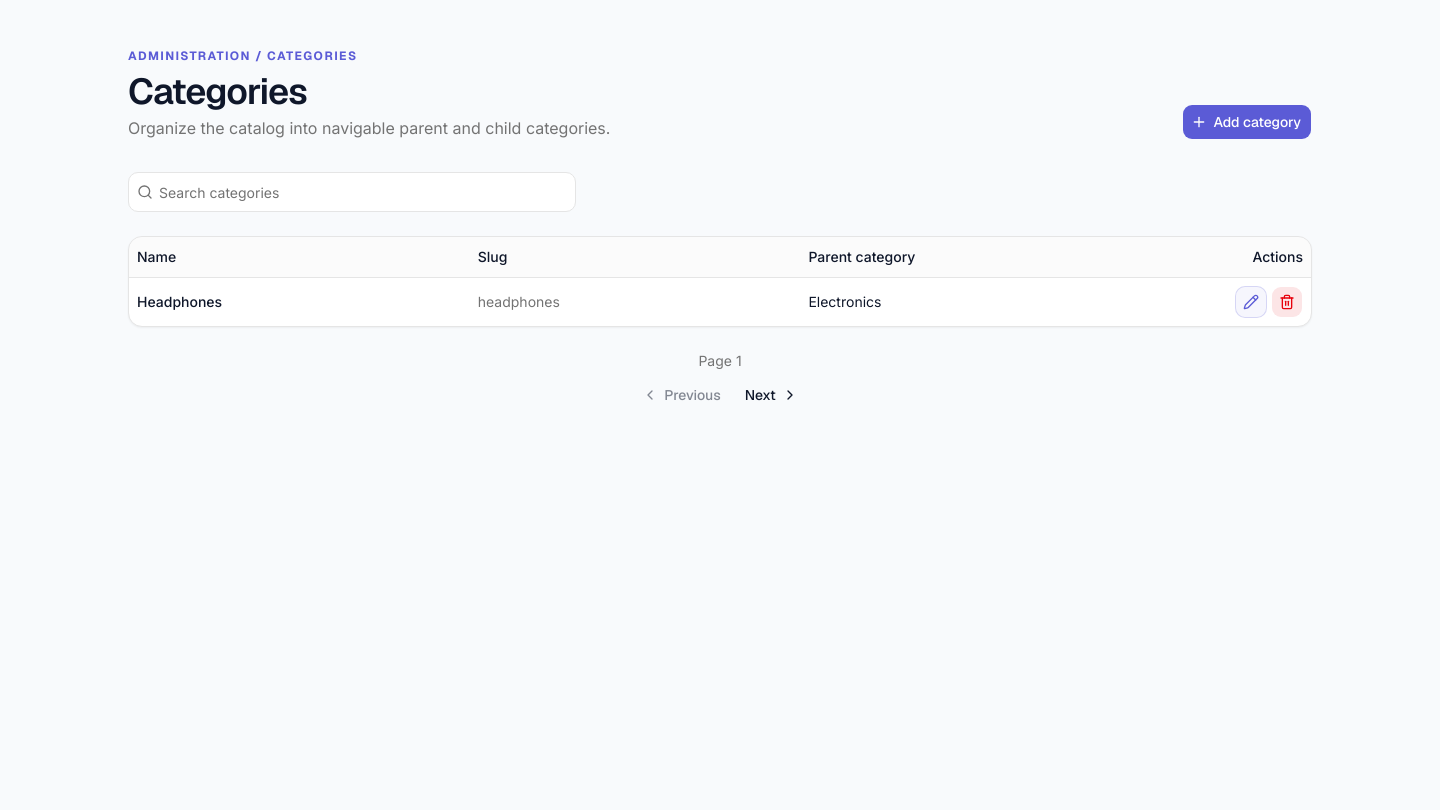
Test: CategoriesCrud › shows dependency conflicts without leaving the page
Click the button named "Delete Headphones": (1287, 302) [1271,286,1303,318]
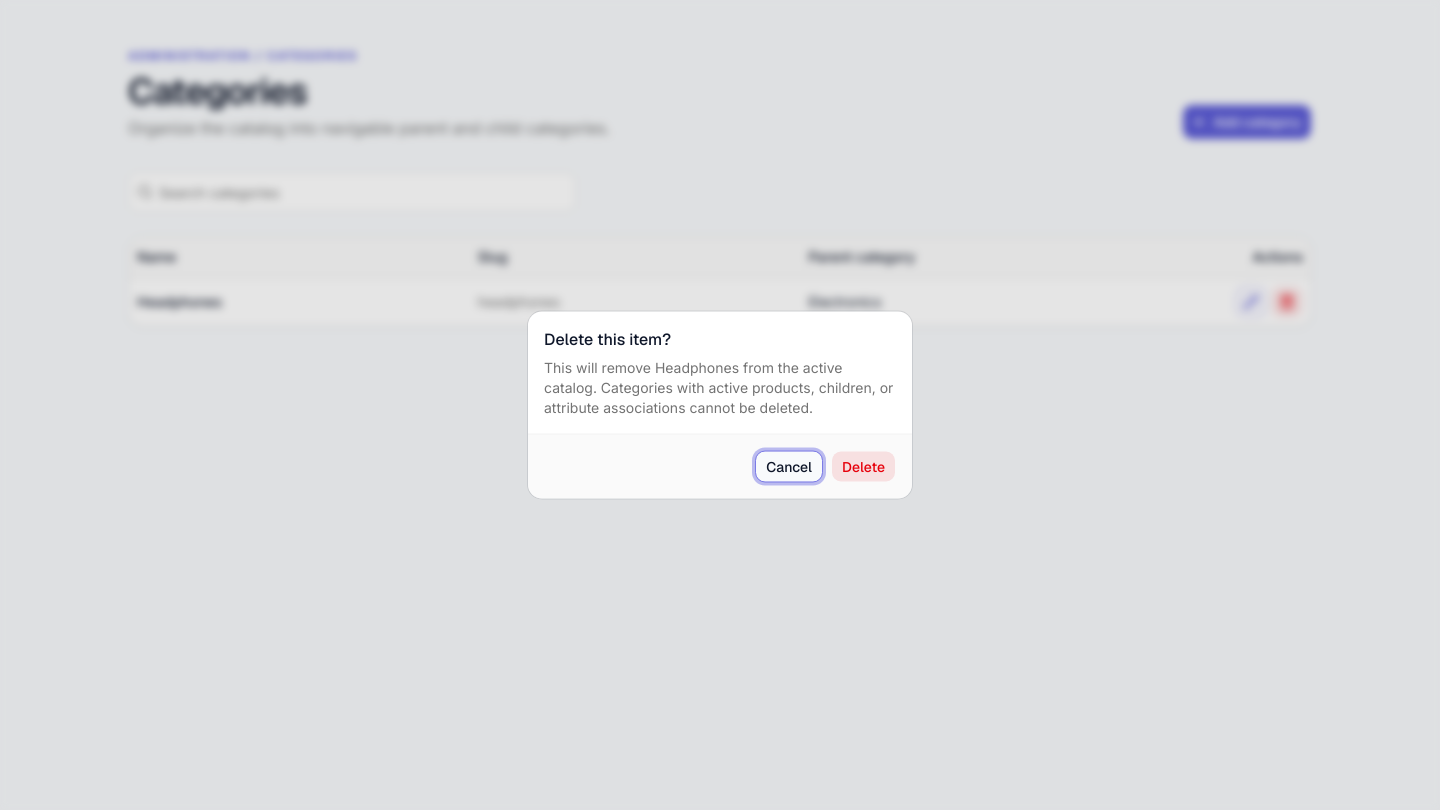
Click the button "Delete": (863, 466) [831,450,896,482]
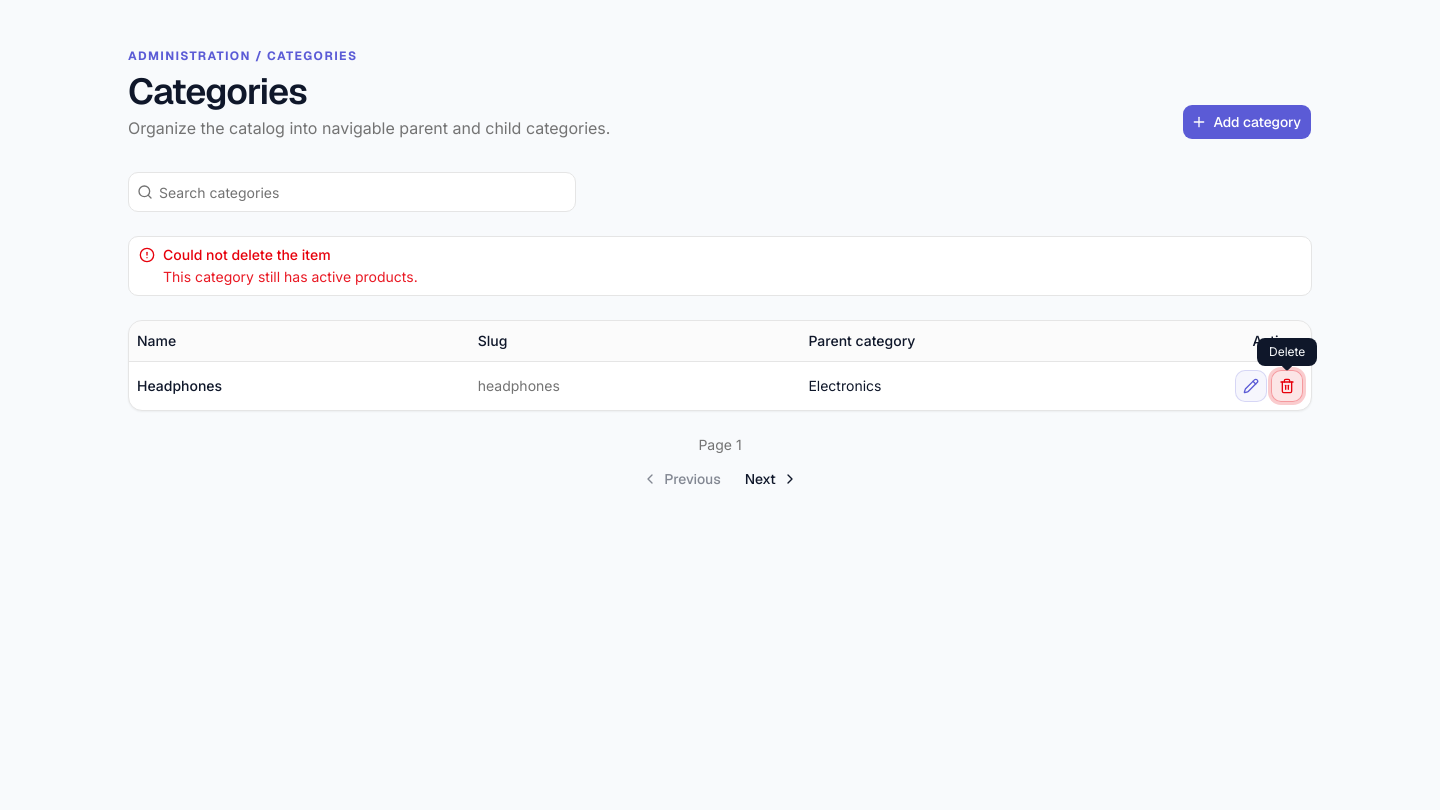
expect the text "This category still has active products." is shown: met, box [163,268,418,285]
